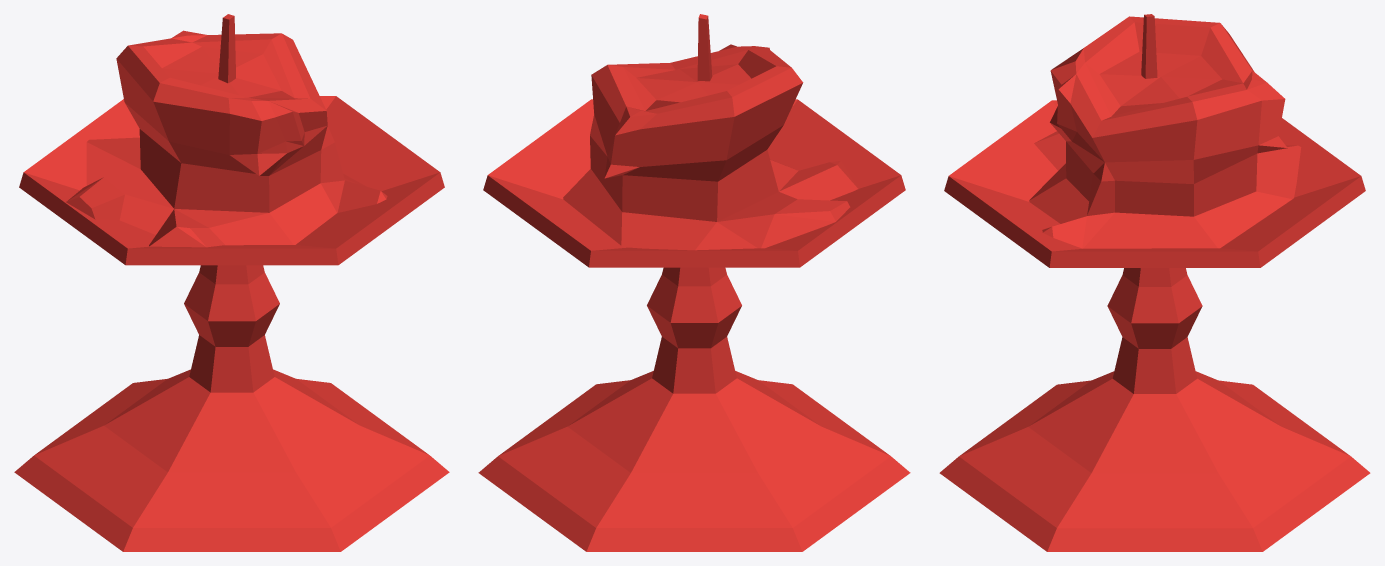
File: SM_Candle_Holder_Short_B_Unlit_Christmas.fbx
The picture shows the model from 3 angles, left to right: view 1: azimuth 30°, elevation 25°; view 2: azimuth 150°, elevation 25°; view 3: azimuth 270°, elevation 25°; orthographic projection.
Visible parts, largest first — view 1: candle-holder-short-b-unlit-christmas; view 2: candle-holder-short-b-unlit-christmas; view 3: candle-holder-short-b-unlit-christmas.
Part boxes in pixels (x1,y1,x2,y2): candle-holder-short-b-unlit-christmas: (14,14,449,551); candle-holder-short-b-unlit-christmas: (478,14,910,551); candle-holder-short-b-unlit-christmas: (939,14,1370,551).
Bounding box in the file's own units: 0.1495 × 0.2011 × 0.1727.
